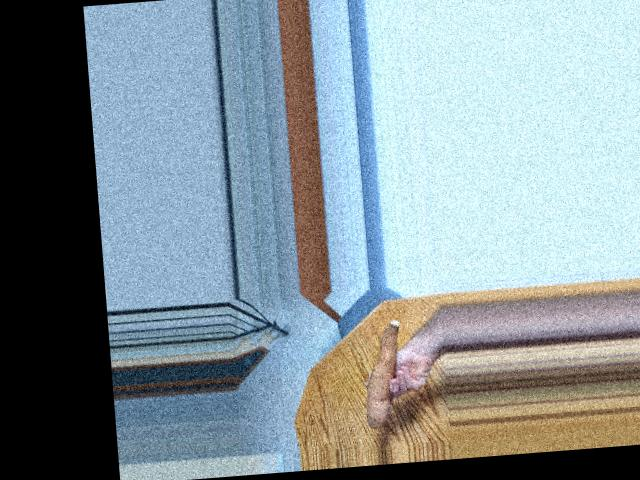sweet_potato: (353, 322, 409, 425)
